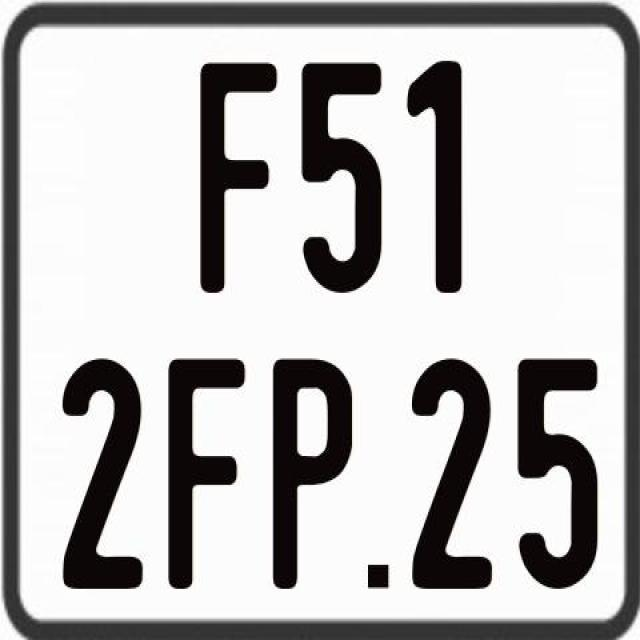1: (405, 59, 467, 299)
2: (410, 354, 494, 594), (62, 357, 142, 597)
5: (298, 62, 382, 302), (518, 355, 602, 587)
F: (198, 61, 282, 300), (165, 354, 244, 586)
P: (269, 358, 355, 592)
